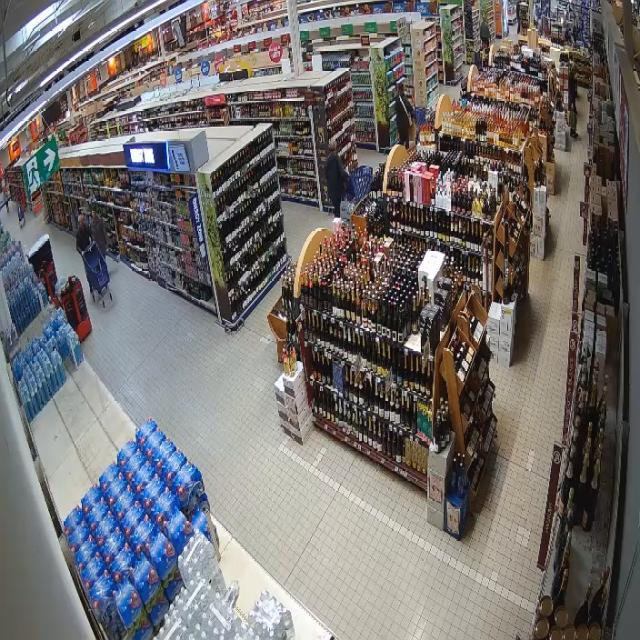bags: (399, 96, 412, 125)
person: (325, 141, 348, 216), (396, 84, 415, 148)
